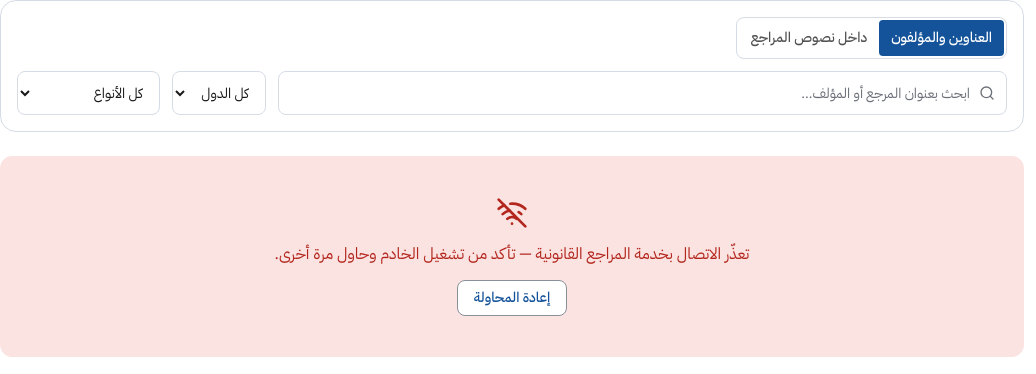
ReferencesBrowser › فشل الجلب يُظهر خطأً مع إعادة محاولة تنجح
Expected: the message shows "تعذّر الاتصال", 275,242 -> 749,266
What coordinates should you click on to do the following:
click the button "إعادة المحاولة"
I would click on:
 (512, 298)
Its box is 457,280 -> 567,316.
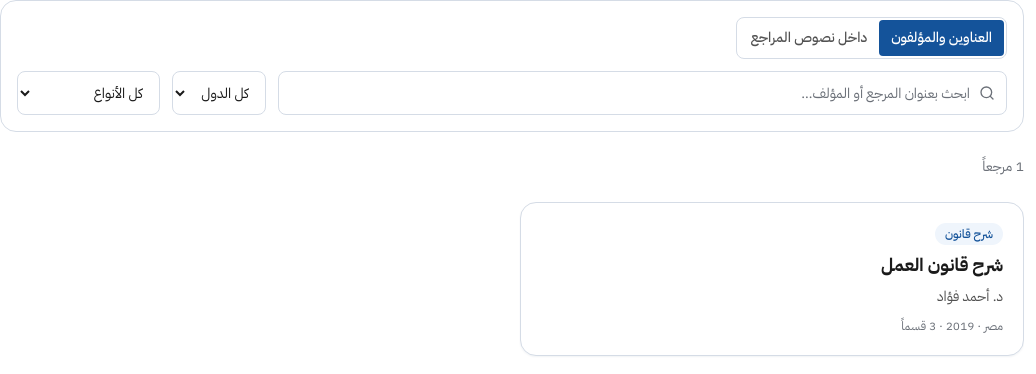
Result: the link "شرح قانون شرح قانون العمل د. أحمد فؤاد مصر · 2019 · 3 قسماً" is shown at 520,202 -> 1024,356
